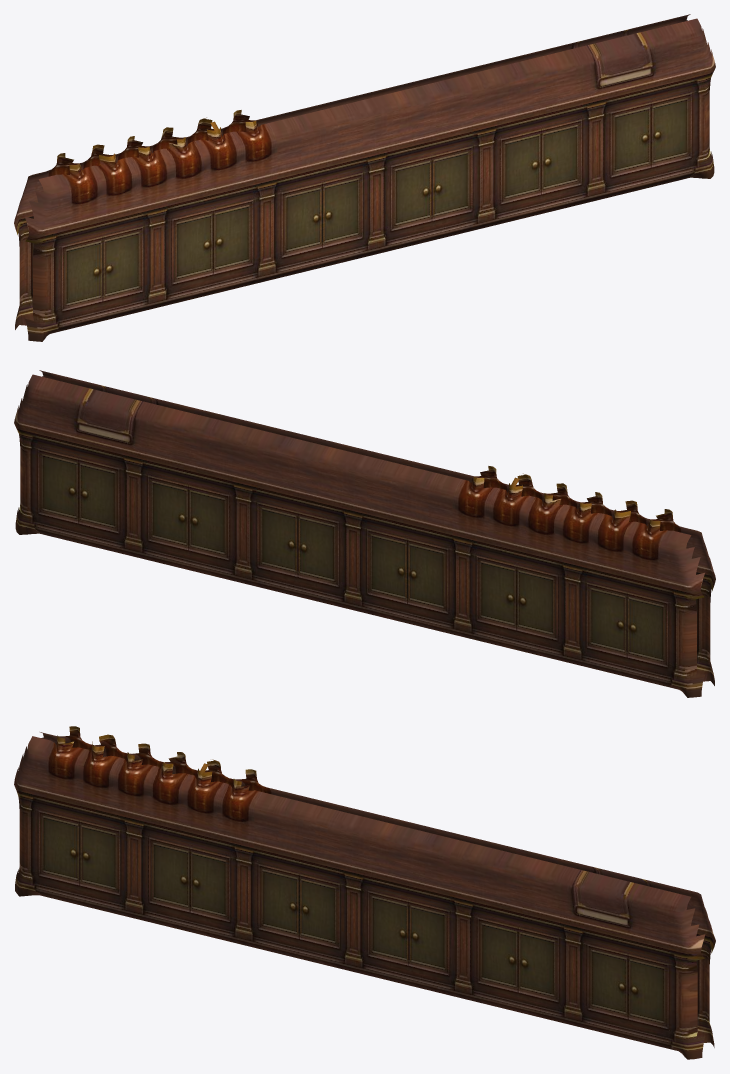
Rendered from v4-alchemist-scatter-long-counter.glb.
The picture shows the model from 3 angles, top to bottom: view 1: azimuth 30°, elevation 25°; view 2: azimuth 150°, elevation 25°; view 3: azimuth 330°, elevation 25°; orthographic projection.
Visible parts, largest first — view 1: v4-alchemist-scatter-long-counter; view 2: v4-alchemist-scatter-long-counter; view 3: v4-alchemist-scatter-long-counter.
Part boxes in pixels (box(x1,y1,x2,y2)): v4-alchemist-scatter-long-counter: box(14, 14, 715, 341); v4-alchemist-scatter-long-counter: box(14, 370, 715, 697); v4-alchemist-scatter-long-counter: box(14, 726, 715, 1059).
Bounding box in the file's own units: 4.11 × 0.9722 × 0.24.
Materials: 1 (1 with a texture image).
